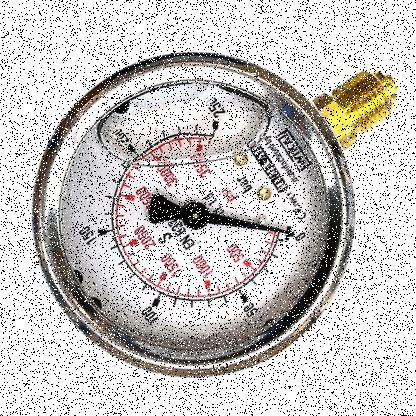needle: (208, 211, 290, 235)
